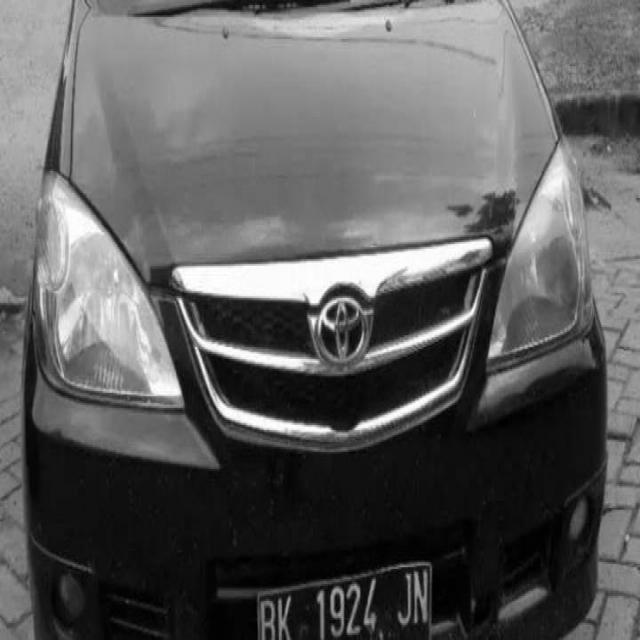1: (310, 586, 330, 638)
2: (346, 573, 360, 637)
4: (362, 575, 385, 640)
9: (328, 583, 344, 639)
J: (396, 570, 416, 626)
K: (276, 596, 294, 640)
N: (420, 558, 430, 626)
Q: (254, 599, 280, 640)
